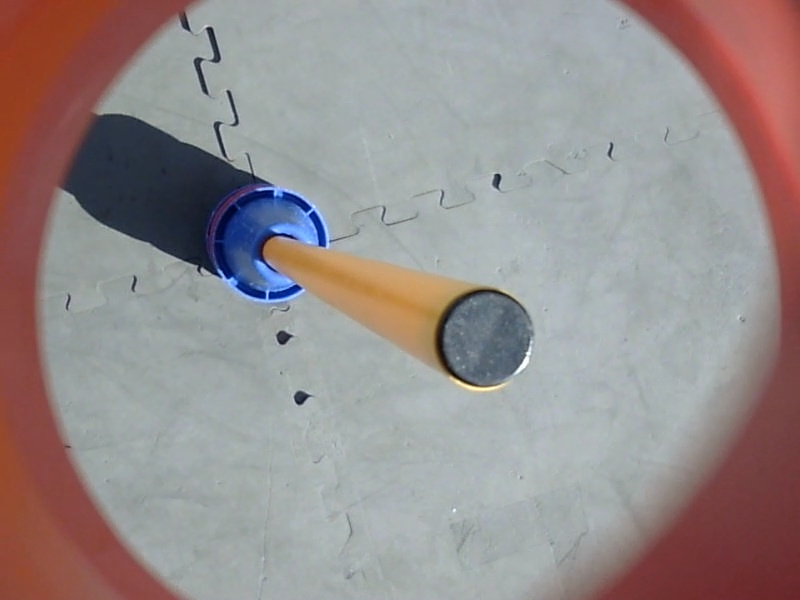tip: (428, 281, 544, 397)
